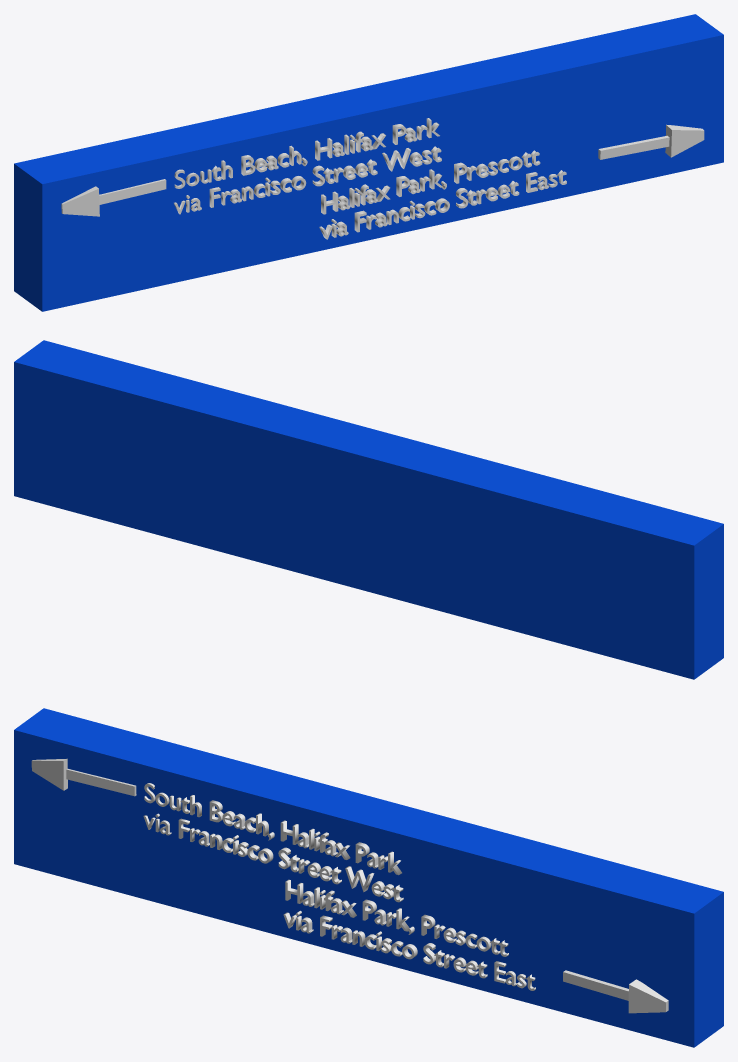
Rendered from M105WestboundTerminusSign.fbx.
The picture shows the model from 3 angles, top to bottom: view 1: azimuth 30°, elevation 25°; view 2: azimuth 150°, elevation 25°; view 3: azimuth 330°, elevation 25°; orthographic projection. The views are drawn at different scales.
Parts seen in each view (by area): view 1: M105WestboundEnd.002, M105TerminusWestText, M105TerminusWestText.001, M105WestboundEnd, M105WestboundEnd.001; view 2: M105WestboundEnd.002; view 3: M105WestboundEnd.002, M105TerminusWestText, M105TerminusWestText.001, M105WestboundEnd, M105WestboundEnd.001.
Part boxes in pixels (x1,y1,x2,y2): M105WestboundEnd.002: (14,14,723,311); M105TerminusWestText: (174,118,441,214); M105TerminusWestText.001: (319,150,566,239); M105WestboundEnd: (598,124,704,159); M105WestboundEnd.001: (61,179,166,216); M105WestboundEnd.002: (14,340,723,679); M105WestboundEnd.002: (14,708,723,1047); M105TerminusWestText: (143,783,403,902); M105TerminusWestText.001: (283,879,535,990); M105WestboundEnd: (563,970,668,1013); M105WestboundEnd.001: (31,758,136,796).
Bounding box in the file's own units: 2709 × 497 × 358.
